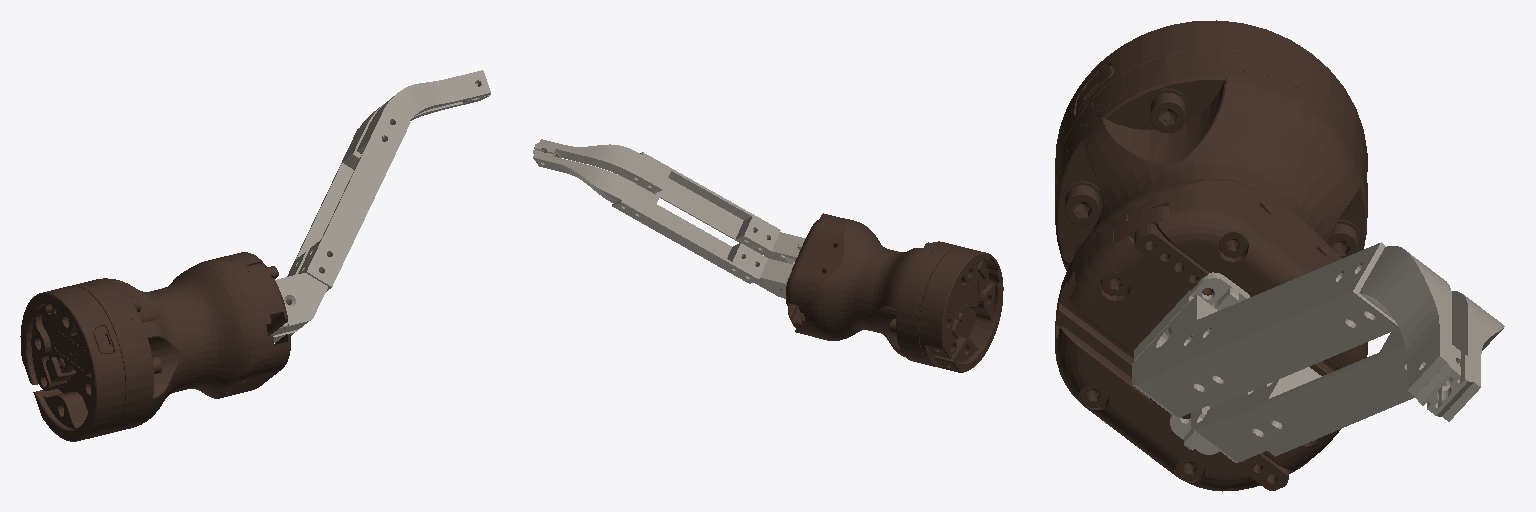
URDF robot description (robotiq_wiring):
<?xml version="1.0" encoding="utf-8"?>
<!-- This URDF was automatically created by SolidWorks to URDF Exporter! Originally created by [author] ([email redacted]) 
     Commit Version: 1.6.0-1-g15f4949  Build Version: 1.6.7594.29634
     For more information, please see http://wiki.ros.org/sw_urdf_exporter -->
<robot
  name="robotiq_wiring">
  <link name="world"/>
  <joint name="joint_name" type="fixed">
      <origin xyz="0 0 0" rpy="0 0 0" />
      <parent link="world" />
      <child link="wiring_gripper" />
  </joint>
  
  <link
    name="wiring_gripper">
    <inertial>
      <origin
        xyz="0.056379 4.9794E-05 0.00020009"
        rpy="0 0 0" />
      <mass
        value="2.6404" />
      <inertia
        ixx="0.0014834"
        ixy="-3.7391E-06"
        ixz="3.3528E-06"
        iyy="0.002045"
        iyz="8.3983E-06"
        izz="0.0020565" />
    </inertial>
    <visual>
      <origin
        xyz="0 0 0"
        rpy="0 0 0" />
      <geometry>
        <mesh
          filename="package://robotiq_wiring/meshes/wiring_gripper.STL" />
      </geometry>
      <material
        name="">
        <color
          rgba="0.31765 0.24706 0.20784 1" />
      </material>
    </visual>
    <collision>
      <origin
        xyz="0 0 0"
        rpy="0 0 0" />
      <geometry>
        <mesh
          filename="package://robotiq_wiring/meshes/wiring_gripper.STL" />
      </geometry>
    </collision>
  </link>
  <link
    name="finger_left">
    <inertial>
      <origin
        xyz="-0.041146 0.063717 0.0094944"
        rpy="0 0 0" />
      <mass
        value="0.19486" />
      <inertia
        ixx="4.9675E-05"
        ixy="2.4802E-05"
        ixz="-4.8356E-07"
        iyy="2.7862E-05"
        iyz="2.8798E-06"
        izz="7.1379E-05" />
    </inertial>
    <visual>
      <origin
        xyz="0 0 0"
        rpy="0 0 0" />
      <geometry>
        <mesh
          filename="package://robotiq_wiring/meshes/finger_left.STL" />
      </geometry>
      <material
        name="">
        <color
          rgba="0.64706 0.61961 0.58824 1" />
      </material>
    </visual>
    <collision>
      <origin
        xyz="0 0 0"
        rpy="0 0 0" />
      <geometry>
        <mesh
          filename="package://robotiq_wiring/meshes/finger_left.STL" />
      </geometry>
    </collision>
  </link>
  <joint
    name="wGripper_to_leftFinger"
    type="prismatic">
    <origin
      xyz="0.1133 0 0"
      rpy="0 0.87266 -1.5708" />
    <parent
      link="wiring_gripper" />
    <child
      link="finger_left" />
    <axis
      xyz="0 0 1" />
    <limit
      lower="-0.0225"
      upper="0"
      effort="0"
      velocity="0" />
  </joint>
  <link
    name="finger_right">
    <inertial>
      <origin
        xyz="0.040691 0.063717 0.0095363"
        rpy="0 0 0" />
      <mass
        value="0.19486" />
      <inertia
        ixx="4.9675E-05"
        ixy="-2.4835E-05"
        ixz="4.5546E-07"
        iyy="2.7862E-05"
        iyz="2.8798E-06"
        izz="7.1379E-05" />
    </inertial>
    <visual>
      <origin
        xyz="0 0 0"
        rpy="0 0 0" />
      <geometry>
        <mesh
          filename="package://robotiq_wiring/meshes/finger_right.STL" />
      </geometry>
      <material
        name="">
        <color
          rgba="0.64706 0.61961 0.58824 1" />
      </material>
    </visual>
    <collision>
      <origin
        xyz="0 0 0"
        rpy="0 0 0" />
      <geometry>
        <mesh
          filename="package://robotiq_wiring/meshes/finger_right.STL" />
      </geometry>
    </collision>
  </link>
  <joint
    name="leftFinger_to_rightFinger"
    type="prismatic">
    <origin
      xyz="1E-05 0 0"
      rpy="3.1416 0 3.1416" />
    <parent
      link="finger_left" />
    <child
      link="finger_right" />
    <axis
      xyz="0 0 1" />
    <limit
      lower="0"
      upper="0"
      effort="0"
      velocity="0" />
    <mimic
      joint="wGripper_to_leftFinger"
      multiplier="-1"
      offset="0" />
  </joint>
</robot>

--- What the picture shows (computed from the rendered views, not written in the file) ---
The picture shows the robot from 3 angles, left to right: view 1: azimuth 30°, elevation 25°; view 2: azimuth 150°, elevation 25°; view 3: azimuth 270°, elevation 25°; orthographic projection.
Model robotiq_wiring with 4 links and 3 joints (2 prismatic, 1 fixed), rooted at world, posed every joint at zero.
Links seen in each view (by area): view 1: wiring_gripper, finger_left, finger_right; view 2: wiring_gripper, finger_left, finger_right; view 3: wiring_gripper, finger_left, finger_right.
Boxes of the visible links, <box> form: wiring_gripper: <box>20,252,290,441</box>; finger_left: <box>270,70,490,335</box>; finger_right: <box>273,83,489,342</box>; wiring_gripper: <box>786,213,1003,372</box>; finger_left: <box>534,139,805,264</box>; finger_right: <box>533,150,793,298</box>; wiring_gripper: <box>1055,20,1367,491</box>; finger_left: <box>1132,242,1460,417</box>; finger_right: <box>1170,291,1504,462</box>.
Bounding box of the posed robot: 0.2742 × 0.1079 × 0.1174 m (x, y, z).
Meshes: 3 distinct files referenced, 3 mesh visuals loaded (3 binary STL).